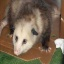opossum: (5, 0, 52, 55)
